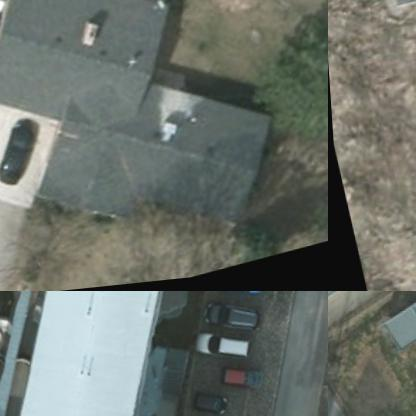car: (196, 298, 262, 348), (190, 328, 252, 376), (0, 130, 45, 193), (185, 389, 231, 415), (216, 291, 262, 310)
